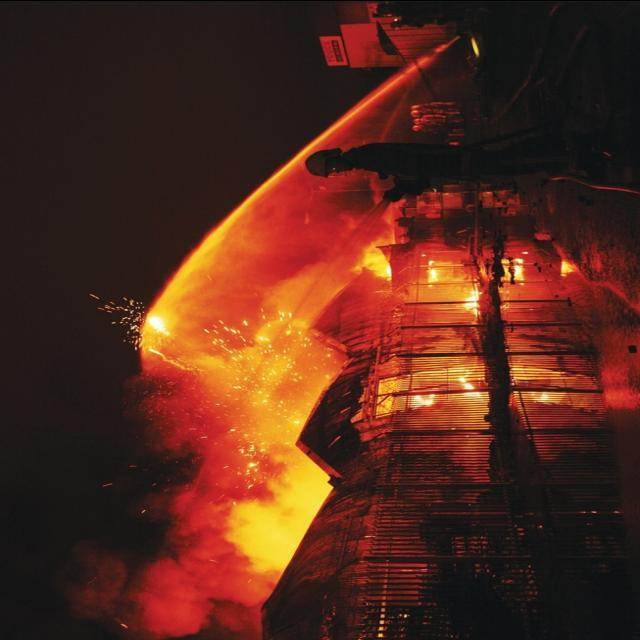Fire: (199, 206, 537, 564)
